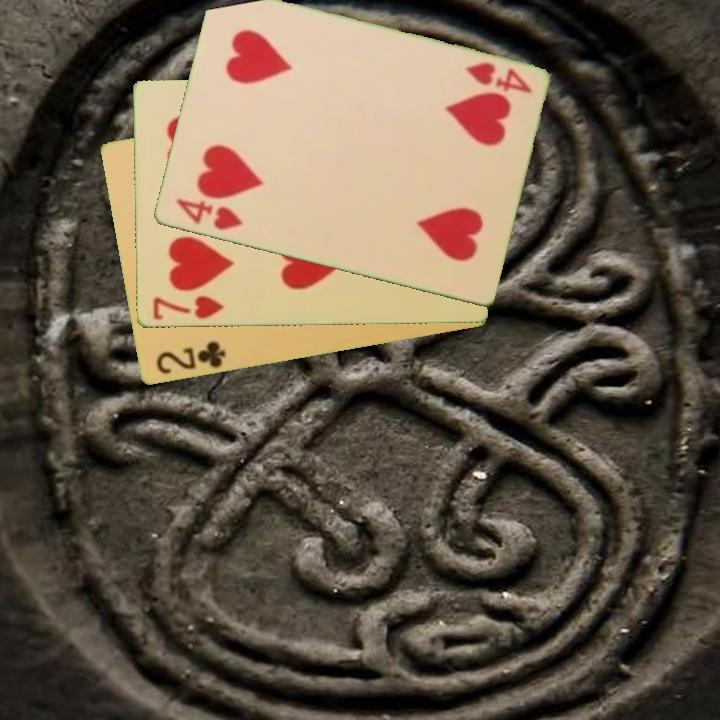2c: (152, 338, 229, 378)
4h: (172, 195, 245, 234), (461, 58, 535, 96)
7h: (149, 293, 227, 323)
